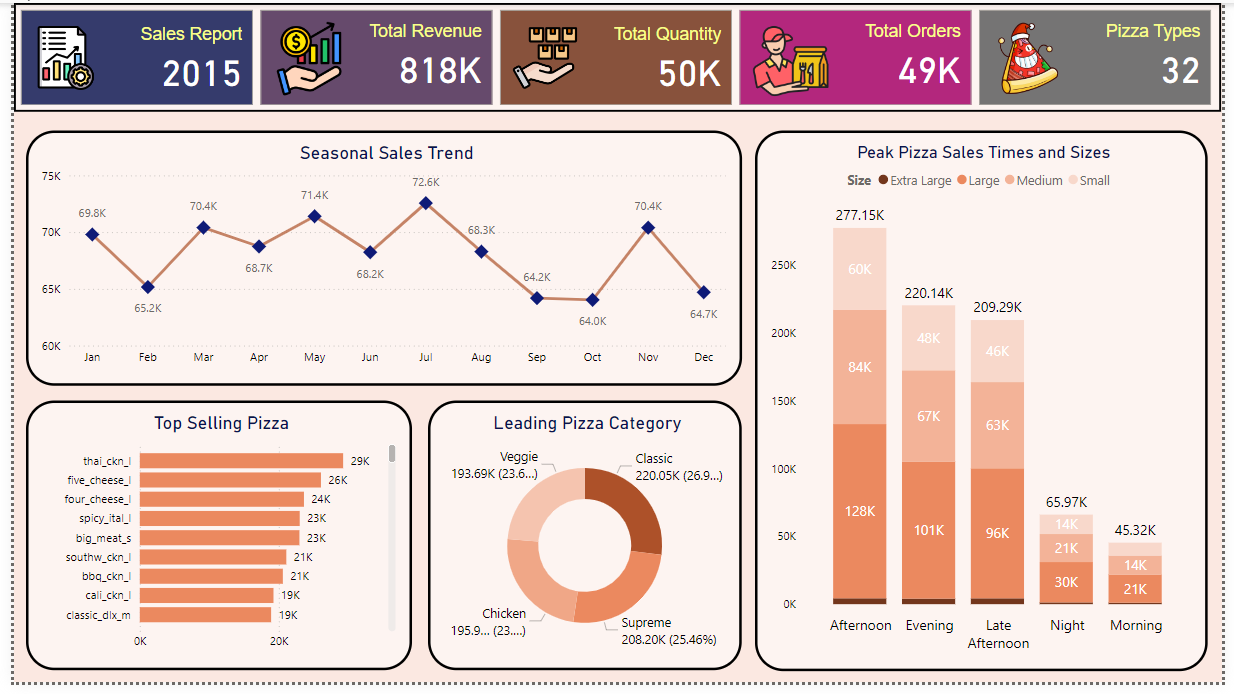

The page's visual inventory and layout, read from the dashboard file:
{"tool":"powerbi","page":{"name":"Pizza Dashboard","canvas":[1280,720],"ordinal":0},"visuals":[{"type":"donutChart","title":"Leading Pizza Category","fields":{"Y":["Sum(order_details.Sales cost)"],"Category":["order_details.Category"]},"box":[440.6,448.6,332.4,260.9],"z":0},{"type":"clusteredBarChart","title":"Top Selling Pizza","fields":{"Y":["Sum(order_details.Sales cost)"],"Category":["order_details.pizza_id"]},"box":[12.7,448.6,418.3,260.9],"z":1000},{"type":"columnChart","title":"Peak Pizza Sales Times and Sizes","fields":{"Category":["order_details.TimeCategory"],"Series":["order_details.Size"],"Y":["Sum(order_details.Revenue Collection)"]},"box":[786.2,261,479.8,448.6],"z":2000},{"type":"cardVisual","fields":{"Data":["Measures (2).Sales Report","Measures (2).Total Revenue","Measures (2).Total Quantity","Measures (2).Total Orders","Measures (2).Pizza Types"]},"box":[0,0,1280.1,115.7],"z":3000},{"type":"advancedSlicerVisual","title":"Quantity Sold per Pizza Size","fields":{"Values":["order_details.Size"]},"box":[786.2,128.2,479.8,125],"z":4000},{"type":"lineChart","title":"Seasonal Sales Insights","fields":{"Category":["order_details.Monthno"],"Y":["Sum(order_details.Revenue Collection)"]},"box":[12.7,128.8,418.3,308.6],"z":5000},{"type":"funnel","title":"Size-wise Revenue","fields":{"Y":["Sum(order_details.Revenue Collection)"],"Category":["order_details.Size"]},"box":[440.6,128.8,332.4,308.6],"z":6000}]}

Visuals, with their boxes in screenshot pixels (x1, y1, x2, y2), scaled from the page's 1280x720 canvas onto the 1234x694 screenshot:
"Leading Pizza Category" donutChart: left=425, top=432, right=745, bottom=684
"Top Selling Pizza" clusteredBarChart: left=12, top=432, right=416, bottom=684
"Peak Pizza Sales Times and Sizes" columnChart: left=758, top=252, right=1221, bottom=684
cardVisual - Measures (2).Sales Report x Measures (2).Total Revenue: left=0, top=0, right=1233, bottom=112
"Quantity Sold per Pizza Size" advancedSlicerVisual: left=758, top=124, right=1221, bottom=244
"Seasonal Sales Insights" lineChart: left=12, top=124, right=416, bottom=422
"Size-wise Revenue" funnel: left=425, top=124, right=745, bottom=422
